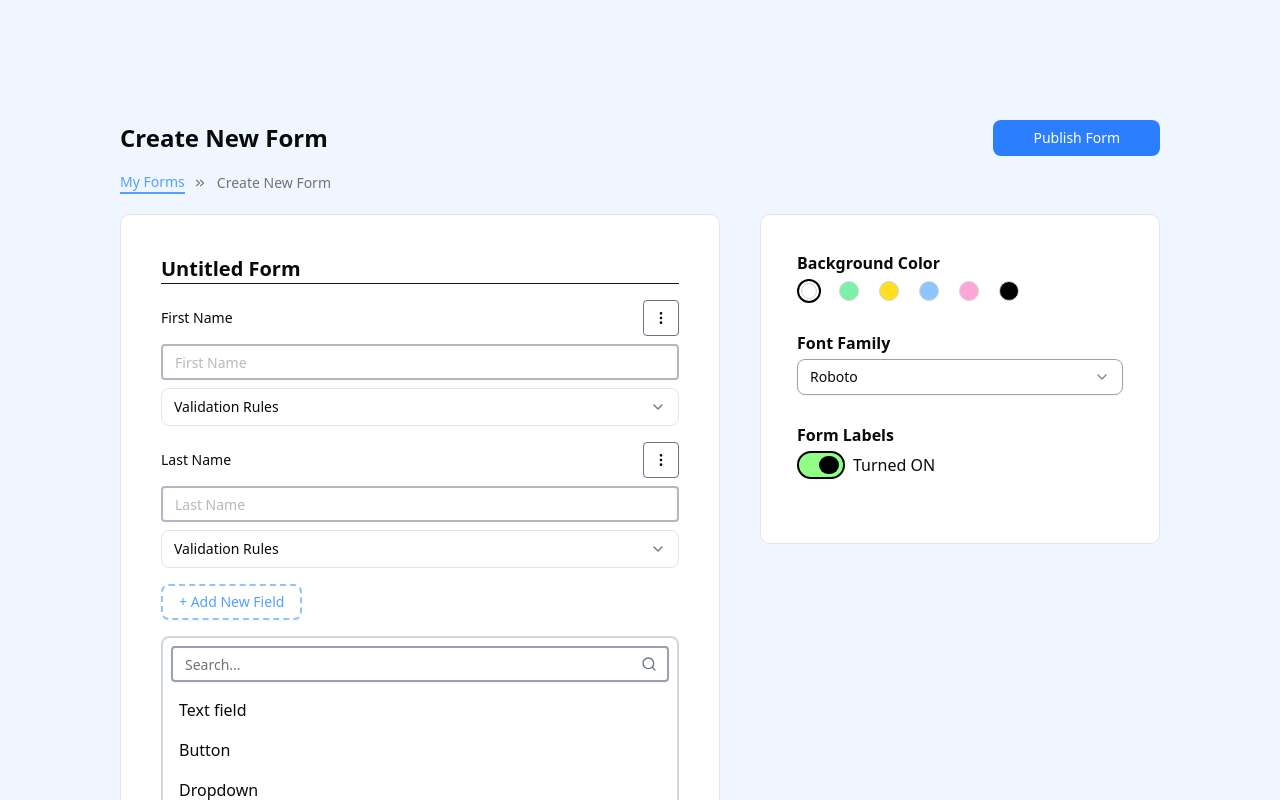
Test: Customisation Panel › should change font family when selecting different options
This screenshot has width=1280, height=800.
Click the dropdown with test id "font-family-select" at [834, 377], box [797,359,1123,395]
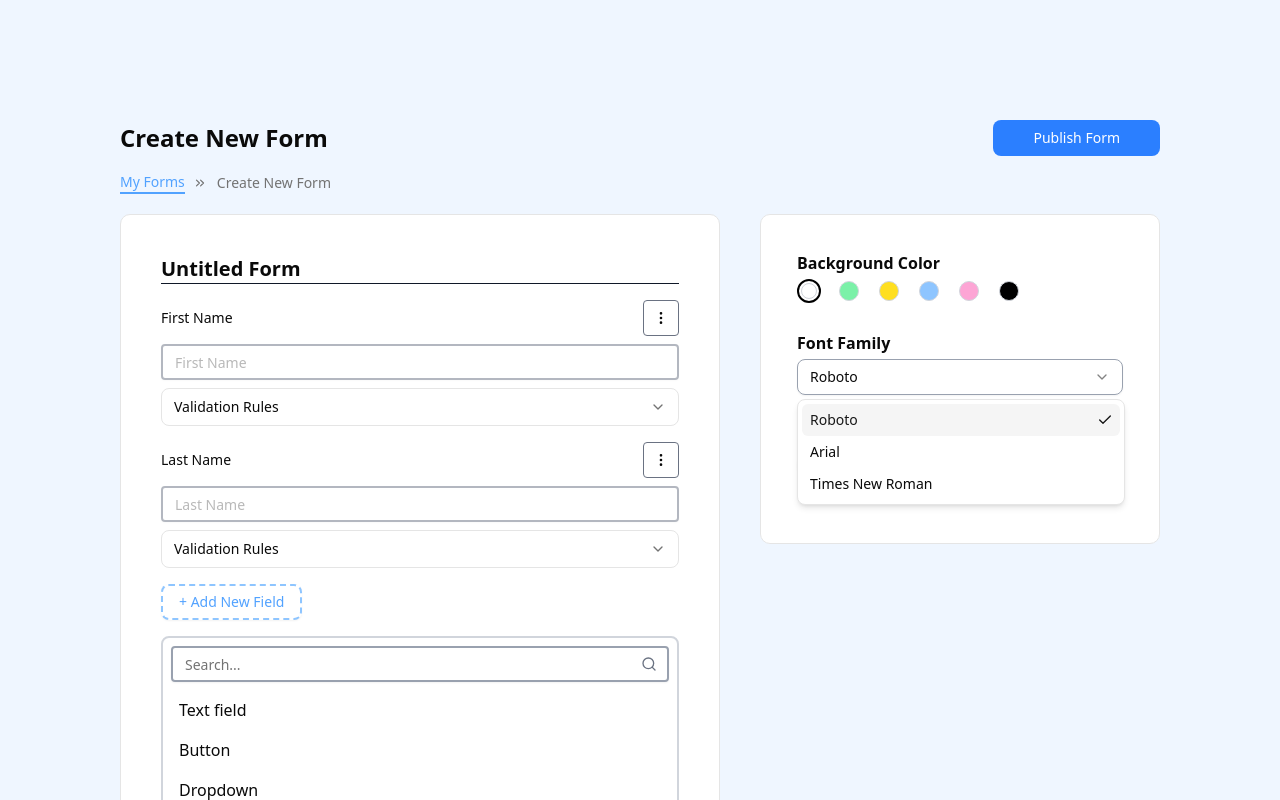
Result: the list "Roboto Arial Times New Roman" is shown at [797,399,1125,505]
Click the text "Arial" at [825, 452], box [810,442,840,462]
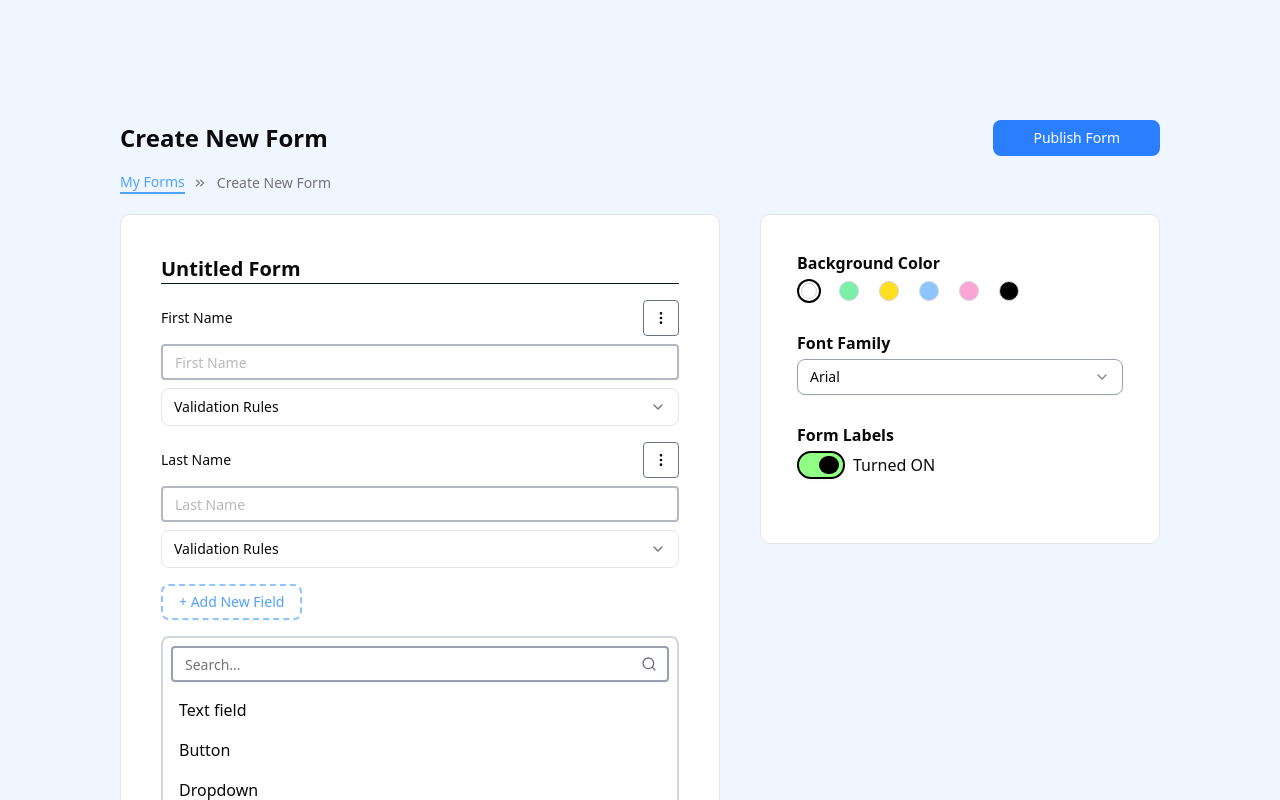
Result: the text with test id "font-family-select" reads "Arial" at [810,367,840,386]
